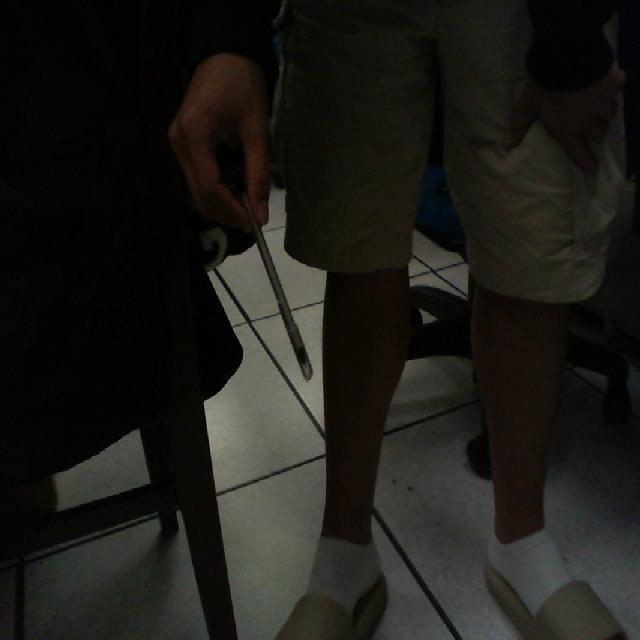Pen: (220, 156, 336, 398)
